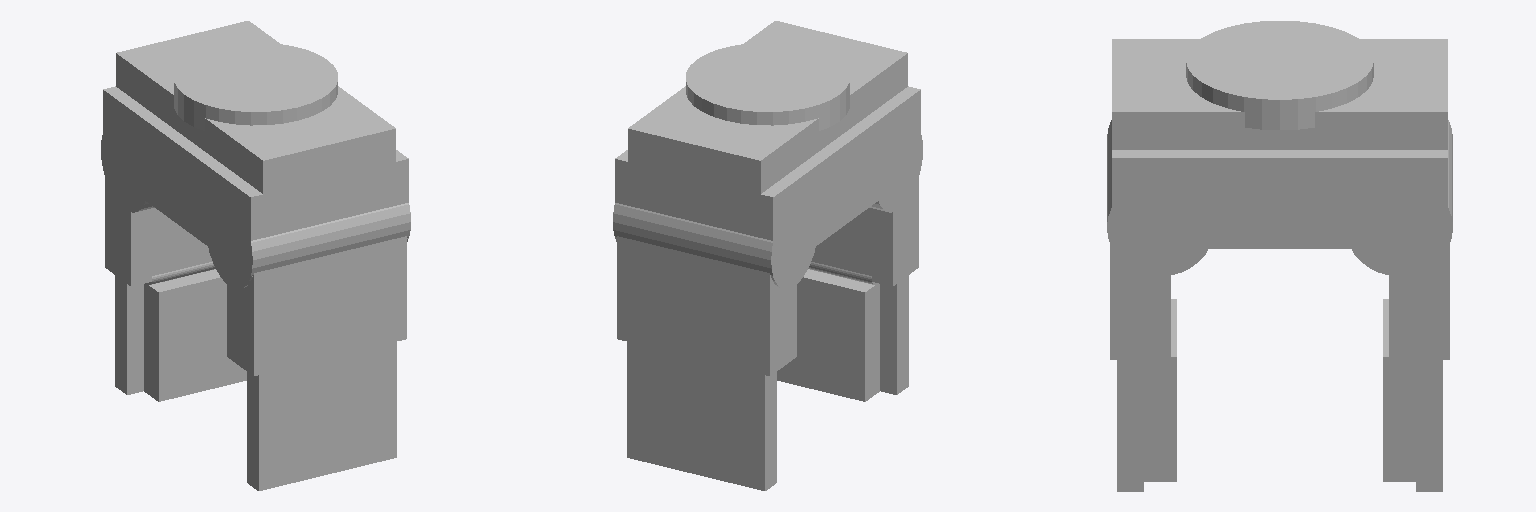
URDF robot description (h5):
<robot name="h5">
    <material name="default">
        <color rgba="0.8 0.8 0.8 1.0"/>
    </material>

    <link name="base_link">
        <inertial>
            <mass value="0.32908300000000001"/>
            <origin rpy="0 0 0" xyz="-0.000001 0.000038 -0.032103"/>
            <inertia ixx="0.00041124" iyy="0.000150111" izz="0.00044493100000000003" ixy="5.7588800000000003e-06" ixz="0" iyz="0"/>
        </inertial>

        <collision name="h5_collision">
            <origin rpy="0.000000 -0.000000 0.000000" xyz="0.000000 0.000000 -0.015"/>
            <geometry>
                <box size="0.052000 0.100000 0.020000"/>
            </geometry>
        </collision>
        <collision name="h5_collision">
            <origin rpy="0.000000 -0.000000 0.000000" xyz="0.000000 0.000000 -0.0325000"/>
            <geometry>
                <box size="0.062000 0.100000 0.030000"/>
            </geometry>
        </collision>
        <collision name="h5_collision">
            <origin rpy="0.0 0.0 0.0" xyz="0.0 0.0 -0.005"/>
            <geometry>
                <cylinder radius="0.028" length="0.01" />
            </geometry>
        </collision>
        <collision name="h5_collision">
            <origin rpy="-1.570796 0.000000 1.570796" xyz="0.0 -0.0355 -0.0405"/>
            <geometry>
                <cylinder radius="0.016" length="0.062" />
            </geometry>
        </collision>
        <collision name="h5_collision">
            <origin rpy="-1.570796 0.000000 1.570796" xyz="0.0 +0.0355 -0.0405"/>
            <geometry>
                <cylinder radius="0.016" length="0.062" />
            </geometry>
        </collision>

        <visual name="h5_visual">
            <origin rpy="0.000000 -0.000000 0.000000" xyz="0.000000 0.000000 -0.015"/>
            <geometry>
                <box size="0.052000 0.100000 0.020000"/>
            </geometry>
            d<material name="default" />
        </visual>
        <visual name="h5_visual">
            <origin rpy="0.000000 -0.000000 0.000000" xyz="0.000000 0.000000 -0.0325000"/>
            <geometry>
                <box size="0.062000 0.100000 0.030000"/>
            </geometry>
            <material name="default" />
        </visual>
        <visual name="h5_visual">
            <origin rpy="0.0 0.0 0.0" xyz="0.0 0.0 -0.005"/>
            <geometry>
                <cylinder radius="0.028" length="0.01" />
            </geometry>
            <material name="default" />
        </visual>
        <visual name="h5_visual">
            <origin rpy="-1.570796 0.000000 1.570796" xyz="0.0 -0.0355 -0.0405"/>
            <geometry>
                <cylinder radius="0.016" length="0.062" />
            </geometry>
            <material name="default" />
        </visual>
        <visual name="h5_visual">
            <origin rpy="-1.570796 0.000000 1.570796" xyz="0.0 +0.0355 -0.0405"/>
            <geometry>
                <cylinder radius="0.016" length="0.062" />
            </geometry>
            <material name="default" />
        </visual>
 
        <!--
        <visual name="h5_visual_1">
            <origin rpy="0.000000 -0.000000 0.000000" xyz="0.000000 0.000000 0.000000"/>
            <geometry>
                <mesh filename="package://h5_hand_description/meshes/base.stl" scale="1 1 1"/>
            </geometry>
            <material name="default" />
        </visual>
        -->

    </link>
    <joint name="left_link_joint" type="revolute">
        <parent link="base_link"/>
        <child link="left_link_link"/>
        <axis xyz="1.000000 0.000000 0.000000"/>
        <limit effort="10000" velocity="10000" lower="-1.3788101090755203" upper="0.87266462599716477"/>
        <origin rpy="0 -0 0" xyz="-0.021500 -0.035500 -0.040500"/>
    </joint>
    <link name="left_link_link">
        <inertial>
            <mass value="0.016848999999999999"/>
            <origin rpy="0 0 0" xyz="0.016570 -0.004451 -0.017355"/>
            <inertia ixx="4.3095500000000001e-06" iyy="1.0579499999999999e-05" izz="8.1009200000000004e-06" ixy="0" ixz="1.79745e-06" iyz="0"/>
        </inertial>

        <collision name="h5_collision_1">
            <origin rpy="1.570796 0.000000 0.000000" xyz="0.021500 -0.0060000 -0.024000"/>
            <geometry>
                <box size="0.060000 0.040000 0.0180000"/>
            </geometry>
        </collision>

        <visual name="h5_visual_1">
            <origin rpy="1.570796 0.000000 0.000000" xyz="0.021500 -0.0060000 -0.024000"/>
            <geometry>
                <box size="0.060000 0.040000 0.0180000"/>
            </geometry>
            <material name="default" />
        </visual>

        <!--
        <visual name="h5_visual_2">
            <origin rpy="0.000000 -0.000000 0.000000" xyz="0.000000 0.000000 0.000000"/>
            <geometry>
                <mesh filename="package://h5_hand_description/meshes/left_link.stl" scale="1 1 1"/>
            </geometry>
            <material name="default" />
        </visual>
        -->

    </link>
    <joint name="left_tip_joint" type="revolute">
        <parent link="left_link_link"/>
        <child link="left_tip_link"/>
        <axis xyz="1.000000 0.000000 0.000000"/>
        <limit effort="10000" velocity="10000" lower="-0.87266462599716477" upper="1.3788101090755203"/>
        <origin rpy="0 -0 0" xyz="0.021500 0.000000 -0.043000"/>
        <mimic joint="left_link_joint" multiplier="-1" offset="0"/>
    </joint>
    <link name="left_tip_link">
        <inertial>
            <mass value="0.046234999999999998"/>
            <origin rpy="0 0 0" xyz="0.000003 -0.038401 -0.083889"/>
            <inertia ixx="9.8584099999999993e-06" iyy="1.7064199999999998e-05" izz="1.00253e-05" ixy="0" ixz="0" iyz="0"/>
        </inertial>

        <collision name="h5_collision">
            <origin rpy="-1.570796 0.000000 1.570796" xyz="0.000000 0.000000 0.000000"/>
            <geometry>
                <cylinder radius="0.0032" length="0.044" />
            </geometry>
        </collision>
        <collision name="h5_collision_1">
            <origin rpy="1.570796 0.000000 0.000000" xyz="0.000000 0.000000 -0.025000"/>
            <geometry>
                <box size="0.041000 0.041000 0.010000"/>
            </geometry>
        </collision>
        <collision name="h5_collision_1">
            <origin rpy="1.570796 0.000000 0.000000" xyz="0.000000 -0.009 -0.021500"/>
            <geometry>
                <box size="0.054000 0.048000 0.008000"/>
            </geometry>
        </collision>

        <visual name="h5_visual">
            <origin rpy="-1.570796 0.000000 1.570796" xyz="0.000000 0.000000 0.000000"/>
            <geometry>
                <cylinder radius="0.0032" length="0.044" />
            </geometry>
            <material name="default" />
        </visual>
        <visual name="h5_visual_1">
            <origin rpy="1.570796 0.000000 0.000000" xyz="0.000000 0.000000 -0.025000"/>
            <geometry>
                <box size="0.041000 0.041000 0.010000"/>
            </geometry>
            <material name="default" />
        </visual>
        <visual name="h5_visual_1">
            <origin rpy="1.570796 0.000000 0.000000" xyz="0.000000 -0.009 -0.021500"/>
            <geometry>
                <box size="0.054000 0.048000 0.008000"/>
            </geometry>
            <material name="default" />
        </visual>

        <!--
        <visual name="h5_visual_2">
            <origin rpy="0.000000 -0.000000 0.000000" xyz="0.000000 0.000000 0.000000"/>
            <geometry>
                <mesh filename="package://h5_hand_description/meshes/left_tip.stl" scale="1 1 1"/>
            </geometry>
            <material name="default" />
        </visual>
        -->

    </link>
    <joint name="right_link_joint" type="revolute">
        <parent link="base_link"/>
        <child link="right_link_link"/>
        <axis xyz="1.000000 0.000000 0.000000"/>
        <limit effort="10000" velocity="10000" lower="-0.87266462599716477" upper="1.3788101090755203"/>
        <origin rpy="0 -0 0" xyz="0.021500 0.035500 -0.040500"/>
    </joint>
    <link name="right_link_link">
        <inertial>
            <mass value="0.016848999999999999"/>
            <origin rpy="0 0 0" xyz="-0.016570 0.004451 -0.017355"/>
            <inertia ixx="4.3095500000000001e-06" iyy="1.0579499999999999e-05" izz="8.1009200000000004e-06" ixy="0" ixz="0" iyz="0"/>
        </inertial>

        <collision name="h5_collision_1">
            <origin rpy="1.570796 0.000000 0.000000" xyz="-0.021500 0.0060000 -0.024000"/>
            <geometry>
                <box size="0.060000 0.040000 0.0180000"/>
            </geometry>
        </collision>

        <visual name="h5_visual_1">
            <origin rpy="1.570796 0.000000 0.000000" xyz="-0.021500 0.0060000 -0.024000"/>
            <geometry>
                <box size="0.060000 0.040000 0.0180000"/>
            </geometry>
            <material name="default" />
        </visual>

        <!--
        <visual name="h5_visual_2">
            <origin rpy="0.000000 -0.000000 3.14159" xyz="0.000000 0.000000 0.000000"/>
            <geometry>
                <mesh filename="package://h5_hand_description/meshes/left_link.stl" scale="1 1 1"/>
            </geometry>
            <material name="default" />
        </visual>
        -->

    </link>
    <joint name="right_tip_joint" type="revolute">
        <parent link="right_link_link"/>
        <child link="right_tip_link"/>
        <axis xyz="1.000000 0.000000 0.000000"/>
        <limit effort="10000" velocity="10000" lower="-1.3788101090755203" upper="0.87266462599716477"/>
        <origin rpy="0 -0 0" xyz="-0.021500 0.000000 -0.043000"/>
        <mimic joint="right_link_joint" multiplier="-1" offset="0"/>
    </joint>
    <link name="right_tip_link">
        <inertial>
            <mass value="0.046234999999999998"/>
            <origin rpy="0 0 0" xyz="-0.000003 0.038401 -0.083889"/>
            <inertia ixx="9.8584099999999993e-06" iyy="1.7064199999999998e-05" izz="1.00253e-05" ixy="0" ixz="0" iyz="0"/>
        </inertial>

        <collision name="h5_collision">
            <origin rpy="-1.570796 0.000000 1.570796" xyz="0.000000 0.000000 0.000000"/>
            <geometry>
                <cylinder radius="0.0032" length="0.044" />
            </geometry>
        </collision>
        <collision name="h5_collision_1">
            <origin rpy="1.570796 0.000000 0.000000" xyz="0.000000 0.000000 -0.025000"/>
            <geometry>
                <box size="0.041000 0.041000 0.010000"/>
            </geometry>
        </collision>
        <collision name="h5_collision_1">
            <origin rpy="1.570796 0.000000 0.000000" xyz="0.000000 0.009 -0.021500"/>
            <geometry>
                <box size="0.054000 0.048000 0.008000"/>
            </geometry>
        </collision>

        <visual name="h5_visual">
            <origin rpy="-1.570796 0.000000 1.570796" xyz="0.000000 0.000000 0.000000"/>
            <geometry>
                <cylinder radius="0.0032" length="0.044" />
            </geometry>
            <material name="default" />
        </visual>
        <visual name="h5_visual_1">
            <origin rpy="1.570796 0.000000 0.000000" xyz="0.000000 0.000000 -0.025000"/>
            <geometry>
                <box size="0.041000 0.041000 0.010000"/>
            </geometry>
            <material name="default" />
        </visual>
        <visual name="h5_visual_1">
            <origin rpy="1.570796 0.000000 0.000000" xyz="0.000000 0.009 -0.021500"/>
            <geometry>
                <box size="0.054000 0.048000 0.008000"/>
            </geometry>
            <material name="default" />
        </visual>

        <!--
        <visual name="h5_visual_2">
            <origin rpy="0.000000 -0.000000 3.14159" xyz="0.000000 0.000000 0.000000"/>
            <geometry>
                <mesh filename="package://h5_hand_description/meshes/left_tip.stl" scale="1 1 1"/>
            </geometry>
            <material name="default" />
        </visual>
        -->

    </link>
</robot>

--- Render facts (derived) ---
Views: 3 orthographic renders of the robot side by side, from view 1: azimuth 30°, elevation 25°; view 2: azimuth 150°, elevation 25°; view 3: azimuth 270°, elevation 25°.
Model h5 with 5 links and 4 joints (4 revolute), rooted at base_link, posed all joints at 0.
Visible links, largest first — view 1: base_link, left_link_link, left_tip_link, right_tip_link, right_link_link; view 2: base_link, right_link_link, right_tip_link, left_tip_link, left_link_link; view 3: base_link, left_tip_link, right_tip_link, left_link_link, right_link_link.
Link boxes in pixels (box(x1,y1,x2,y2)): base_link: box(101, 21, 410, 288); left_link_link: box(227, 236, 406, 375); left_tip_link: box(247, 342, 396, 490); right_tip_link: box(115, 262, 246, 401); right_link_link: box(105, 178, 212, 286); base_link: box(613, 21, 922, 288); right_link_link: box(617, 236, 796, 375); right_tip_link: box(627, 342, 776, 490); left_tip_link: box(777, 262, 908, 401); left_link_link: box(811, 178, 918, 286); base_link: box(1107, 21, 1452, 275); left_tip_link: box(1117, 299, 1176, 491); right_tip_link: box(1383, 299, 1442, 491); left_link_link: box(1110, 245, 1170, 359); right_link_link: box(1389, 245, 1449, 359).
Bounding box of the posed robot: 0.062 × 0.103 × 0.129 m (x, y, z).
Geometry: primitives only (box / cylinder / sphere), no mesh files.